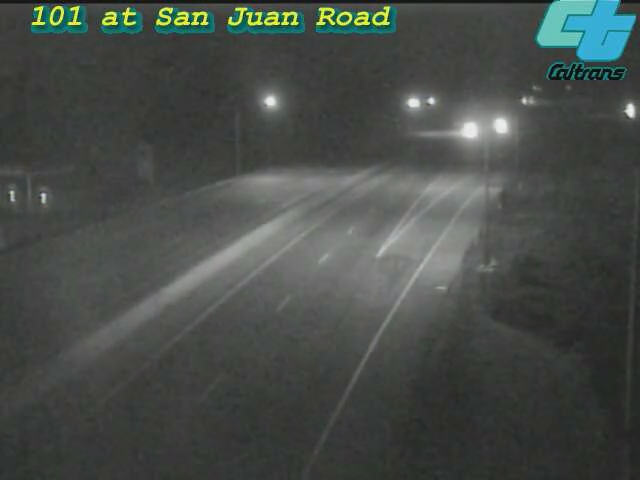vehicle: (446, 105, 496, 155), (475, 101, 525, 151), (605, 86, 640, 136)
